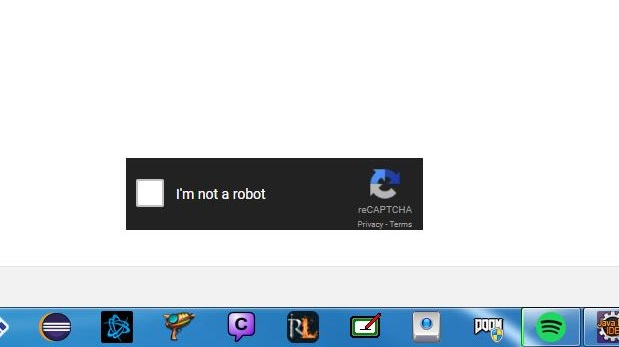captcha: (136, 178, 270, 208)
